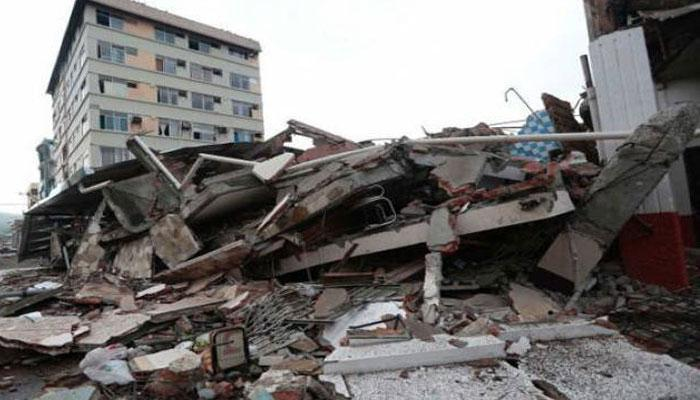destroyed: (19, 26, 658, 374)
minor: (40, 0, 279, 230)
